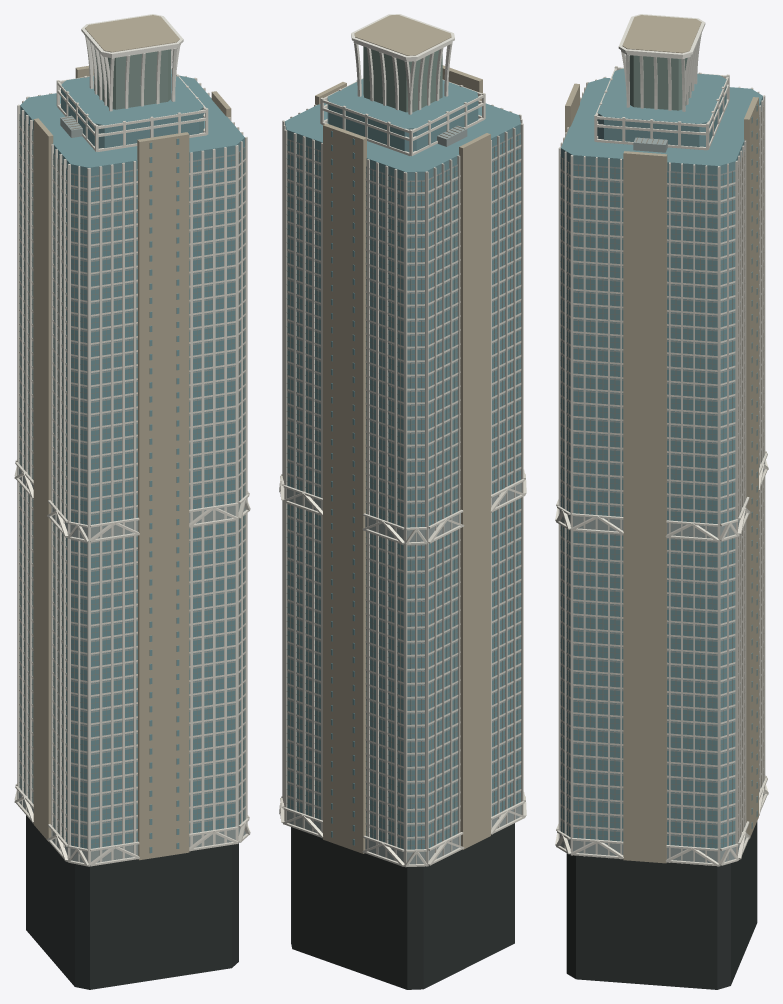
File: bespoke-hyperion-b.glb
3 renders of one model, left to right at view 1: azimuth 30°, elevation 25°; view 2: azimuth 150°, elevation 25°; view 3: azimuth 270°, elevation 25°, orthographic.
Visible parts, largest first — view 1: B_02_ivory_floor_and_column_frames, B_03_blue_grey_window_divisions003, B_04_warm_stone_central_axis003_1, B_01_chamfered_corner_wings003_1, B_03_blue_grey_window_divisions003_1, B_01_chamfered_corner_wings003, B_03_blue_grey_window_divisions003_2, B_06_flared_colonnade_and_stepped_penthouse003_1, B_05_engineer_documented_white_diagonal_belts003, B_06_flared_colonnade_and_stepped_penthouse003_4, B_06_flared_colonnade_and_stepped_penthouse003_5, B_04_warm_stone_central_axis003 (+3 smaller); view 2: B_03_blue_grey_window_divisions003, B_02_ivory_floor_and_column_frames, B_04_warm_stone_central_axis003_1, B_01_chamfered_corner_wings003_1, B_03_blue_grey_window_divisions003_1, B_03_blue_grey_window_divisions003_2, B_01_chamfered_corner_wings003, B_06_flared_colonnade_and_stepped_penthouse003_1, B_05_engineer_documented_white_diagonal_belts003, B_06_flared_colonnade_and_stepped_penthouse003_4, B_06_flared_colonnade_and_stepped_penthouse003_5, B_05_engineer_documented_white_diagonal_belts003_1 (+3 smaller); view 3: B_03_blue_grey_window_divisions003, B_02_ivory_floor_and_column_frames, B_04_warm_stone_central_axis003_1, B_01_chamfered_corner_wings003_1, B_03_blue_grey_window_divisions003_1, B_01_chamfered_corner_wings003, B_03_blue_grey_window_divisions003_2, B_06_flared_colonnade_and_stepped_penthouse003_1, B_05_engineer_documented_white_diagonal_belts003, B_06_flared_colonnade_and_stepped_penthouse003_4, B_06_flared_colonnade_and_stepped_penthouse003_5, B_06_flared_colonnade_and_stepped_penthouse003_2 (+3 smaller).
Part boxes in pixels (left/top/right/bottom): B_02_ivory_floor_and_column_frames: left=17, top=76, right=247, bottom=866; B_03_blue_grey_window_divisions003: left=19, top=116, right=245, bottom=848; B_04_warm_stone_central_axis003_1: left=33, top=65, right=231, bottom=860; B_01_chamfered_corner_wings003_1: left=26, top=815, right=238, bottom=989; B_03_blue_grey_window_divisions003_1: left=19, top=116, right=245, bottom=847; B_01_chamfered_corner_wings003: left=20, top=75, right=244, bottom=837; B_03_blue_grey_window_divisions003_2: left=19, top=114, right=245, bottom=839; B_06_flared_colonnade_and_stepped_penthouse003_1: left=61, top=69, right=203, bottom=148; B_05_engineer_documented_white_diagonal_belts003: left=14, top=459, right=250, bottom=866; B_06_flared_colonnade_and_stepped_penthouse003_4: left=81, top=14, right=183, bottom=111; B_06_flared_colonnade_and_stepped_penthouse003_5: left=94, top=47, right=170, bottom=109; B_04_warm_stone_central_axis003: left=149, top=138, right=179, bottom=853; B_03_blue_grey_window_divisions003: left=287, top=133, right=520, bottom=849; B_02_ivory_floor_and_column_frames: left=282, top=104, right=523, bottom=867; B_04_warm_stone_central_axis003_1: left=315, top=65, right=490, bottom=853; B_01_chamfered_corner_wings003_1: left=291, top=823, right=514, bottom=989; B_03_blue_grey_window_divisions003_1: left=287, top=134, right=520, bottom=849; B_03_blue_grey_window_divisions003_2: left=287, top=133, right=520, bottom=840; B_01_chamfered_corner_wings003: left=285, top=103, right=520, bottom=838; B_06_flared_colonnade_and_stepped_penthouse003_1: left=327, top=79, right=478, bottom=151; B_05_engineer_documented_white_diagonal_belts003: left=279, top=469, right=526, bottom=866; B_06_flared_colonnade_and_stepped_penthouse003_4: left=351, top=14, right=454, bottom=114; B_06_flared_colonnade_and_stepped_penthouse003_5: left=363, top=46, right=442, bottom=112; B_05_engineer_documented_white_diagonal_belts003_1: left=286, top=483, right=521, bottom=864; B_03_blue_grey_window_divisions003: left=560, top=155, right=735, bottom=848; B_02_ivory_floor_and_column_frames: left=558, top=76, right=765, bottom=866; B_04_warm_stone_central_axis003_1: left=565, top=83, right=758, bottom=863; B_01_chamfered_corner_wings003_1: left=566, top=821, right=757, bottom=989; B_03_blue_grey_window_divisions003_1: left=560, top=107, right=763, bottom=847; B_01_chamfered_corner_wings003: left=561, top=77, right=762, bottom=837; B_03_blue_grey_window_divisions003_2: left=560, top=105, right=763, bottom=839; B_06_flared_colonnade_and_stepped_penthouse003_1: left=597, top=68, right=726, bottom=146; B_05_engineer_documented_white_diagonal_belts003: left=555, top=451, right=768, bottom=866; B_06_flared_colonnade_and_stepped_penthouse003_4: left=618, top=14, right=705, bottom=111; B_06_flared_colonnade_and_stepped_penthouse003_5: left=629, top=55, right=691, bottom=110; B_06_flared_colonnade_and_stepped_penthouse003_2: left=622, top=15, right=701, bottom=53.
Size of the model in its own units: 47.2 by 216 by 45.72.
